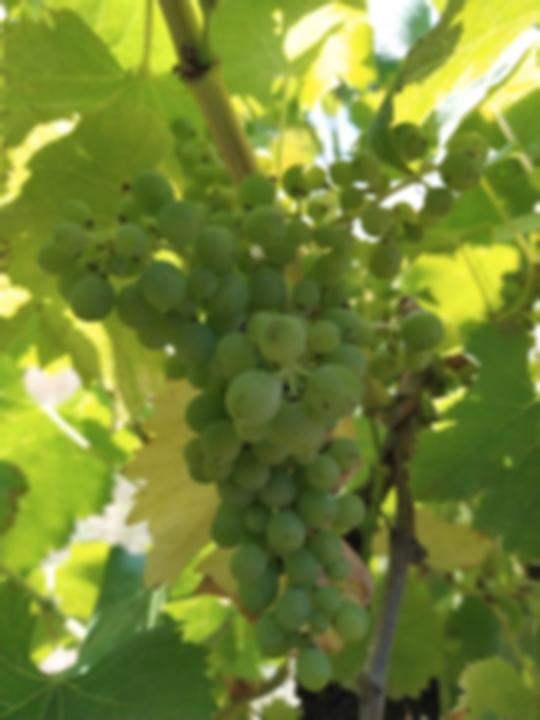grape: (35, 122, 493, 694)
